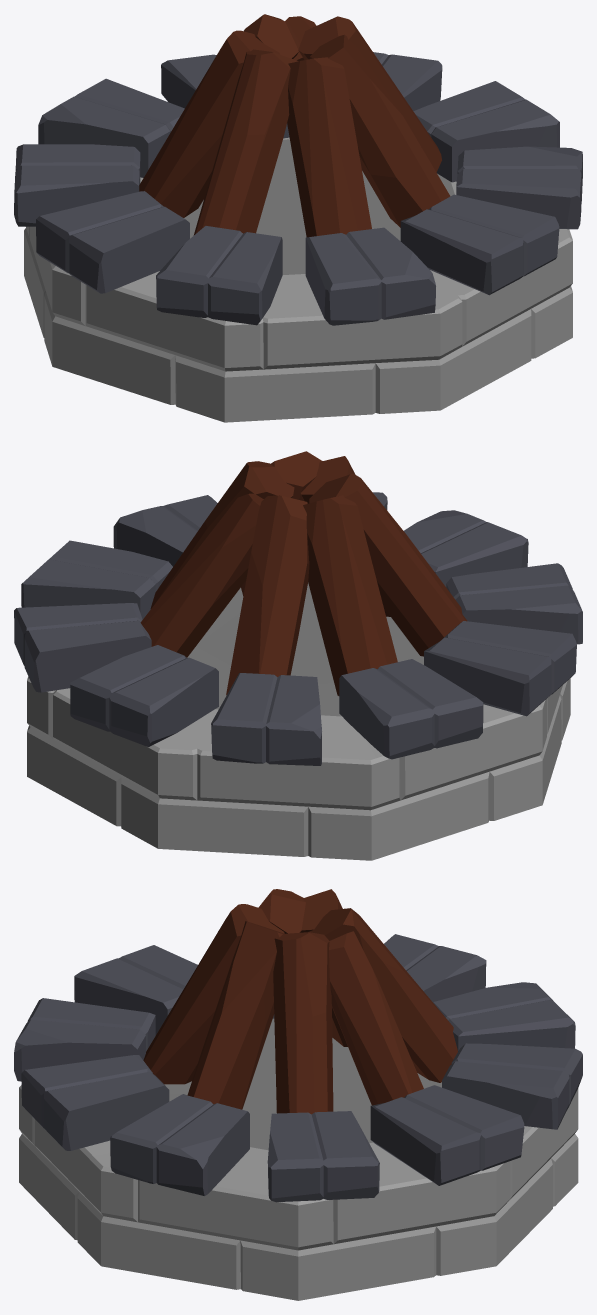
File: CampFire_2.fbx
3 renders of one model, top to bottom at view 1: azimuth 30°, elevation 25°; view 2: azimuth 150°, elevation 25°; view 3: azimuth 270°, elevation 25°, orthographic.
Parts seen in each view (by area): view 1: CampFire_2; view 2: CampFire_2; view 3: CampFire_2.
Boxes of the visible parts, bbox=[...] form: CampFire_2: bbox=[14, 14, 582, 422]; CampFire_2: bbox=[14, 451, 582, 860]; CampFire_2: bbox=[14, 889, 582, 1300].
Bounding box in the file's own units: 51.99 × 27.62 × 52.51.
